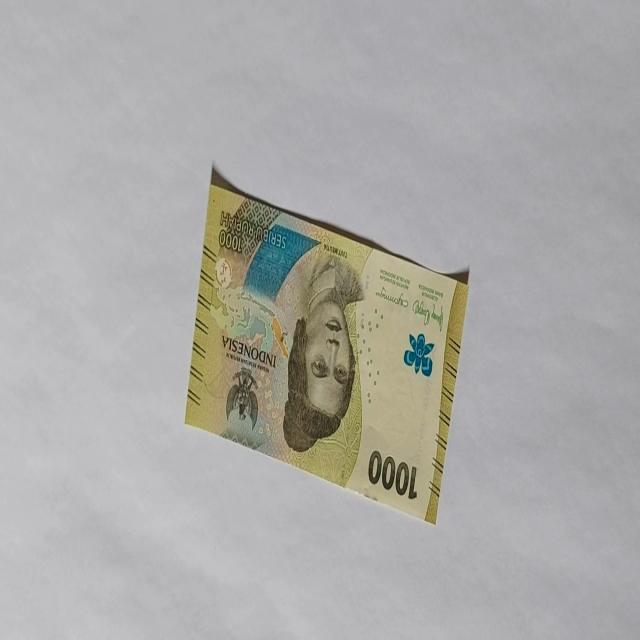seribu rupiah kertas: (183, 164, 470, 526)
